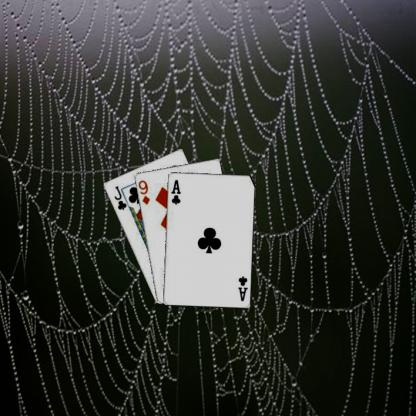9D: (136, 178, 151, 206)
AC: (168, 178, 182, 205), (236, 273, 249, 302)
JC: (111, 183, 128, 211)
